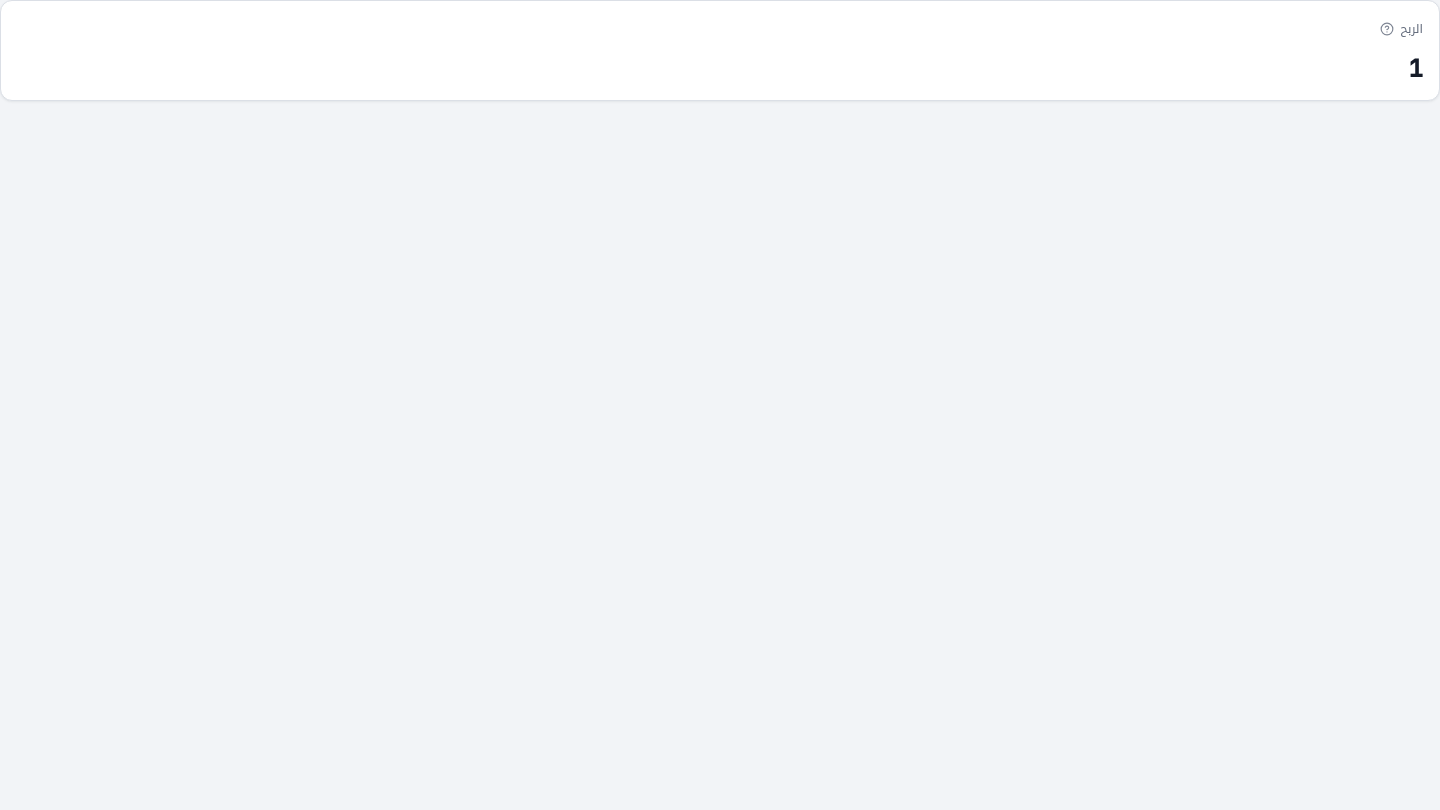
Test: StatCard › shows the help button only with a tooltip or details, and opens them
The image size is (1440, 810).
Click the button named "مزيد من المعلومات".
click(1382, 29)  # box [1370,17,1394,41]
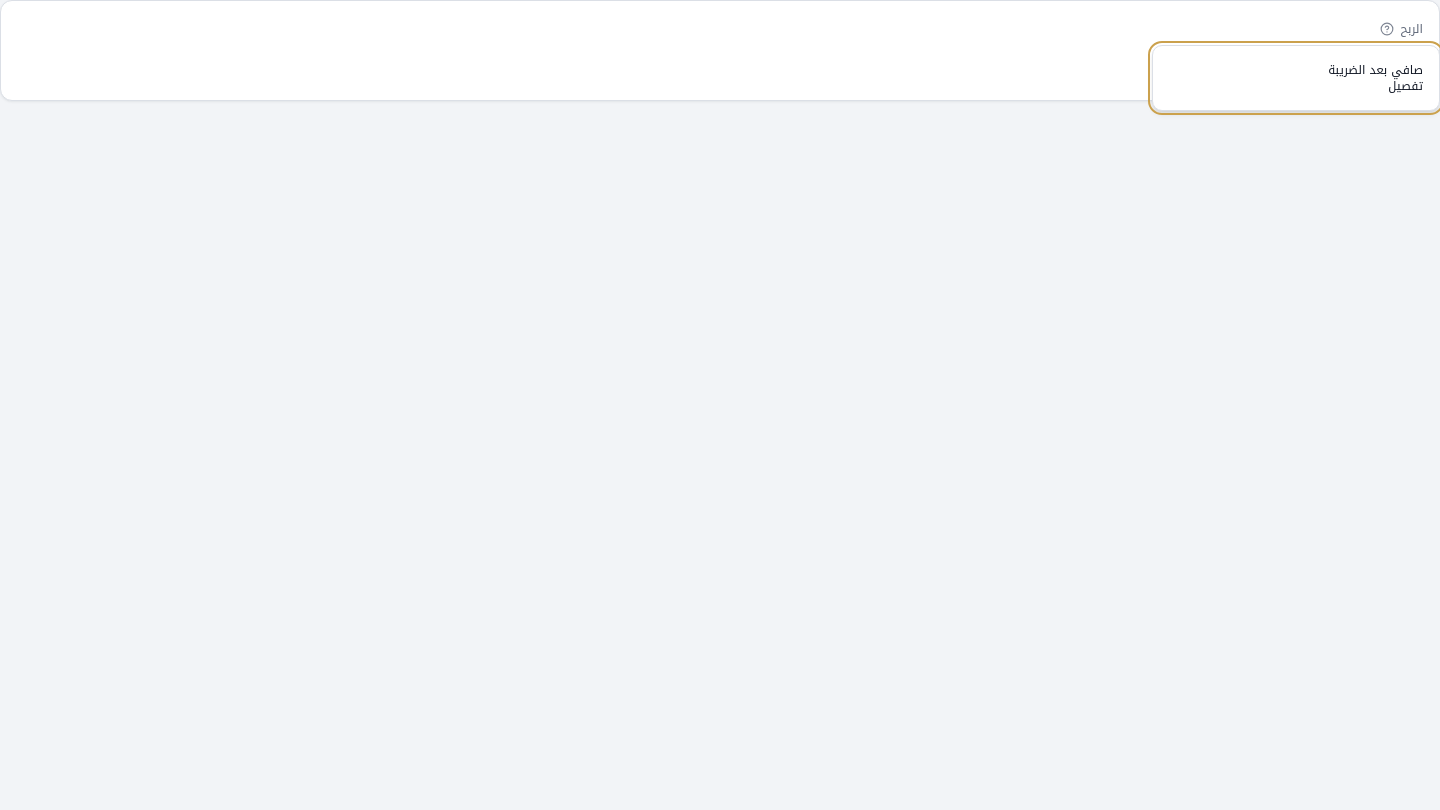
Expected: the text "صافي بعد الضريبة" is shown, [1328,59,1423,81]
Expected: the text "تفصيل" is shown, [1388,75,1423,97]
